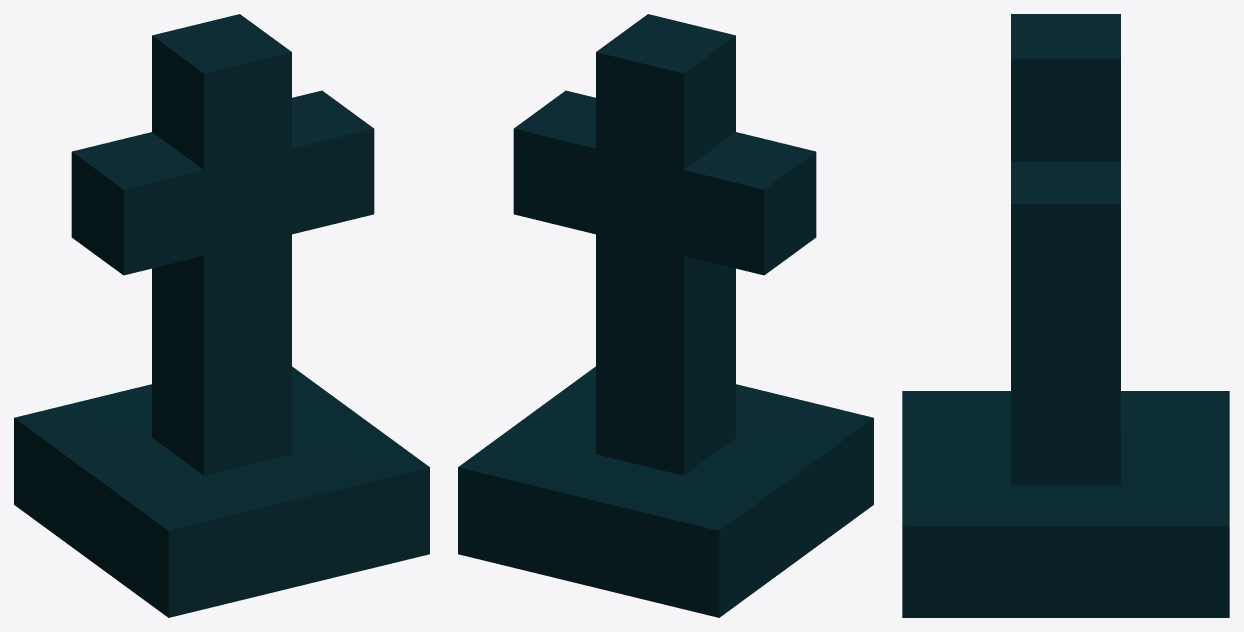
File: TumbaCruz.fbx
3 views of the same model, side by side, from view 1: azimuth 30°, elevation 25°; view 2: azimuth 150°, elevation 25°; view 3: azimuth 270°, elevation 25° (orthographic). The views are drawn at different scales.
Parts seen in each view (by area): view 1: Cubo.001; view 2: Cubo.001; view 3: Cubo.001.
Boxes of the visible parts, x1,y1,x2,y2 form: Cubo.001: (14,14,429,617); Cubo.001: (458,14,873,617); Cubo.001: (902,14,1229,617).
Bounding box in the file's own units: 176 × 313 × 181.
